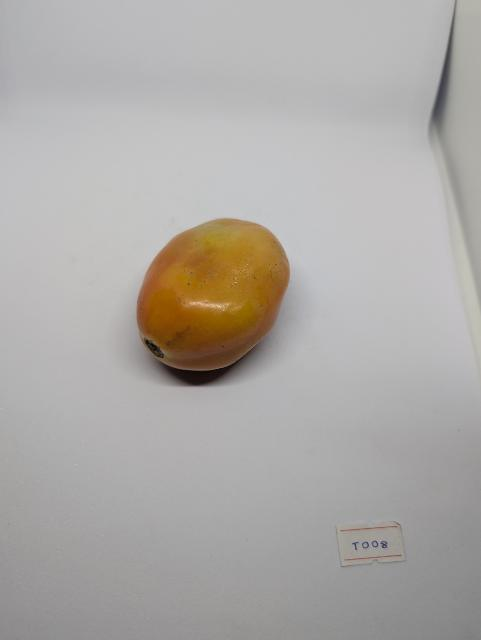turning: (128, 201, 303, 385)
